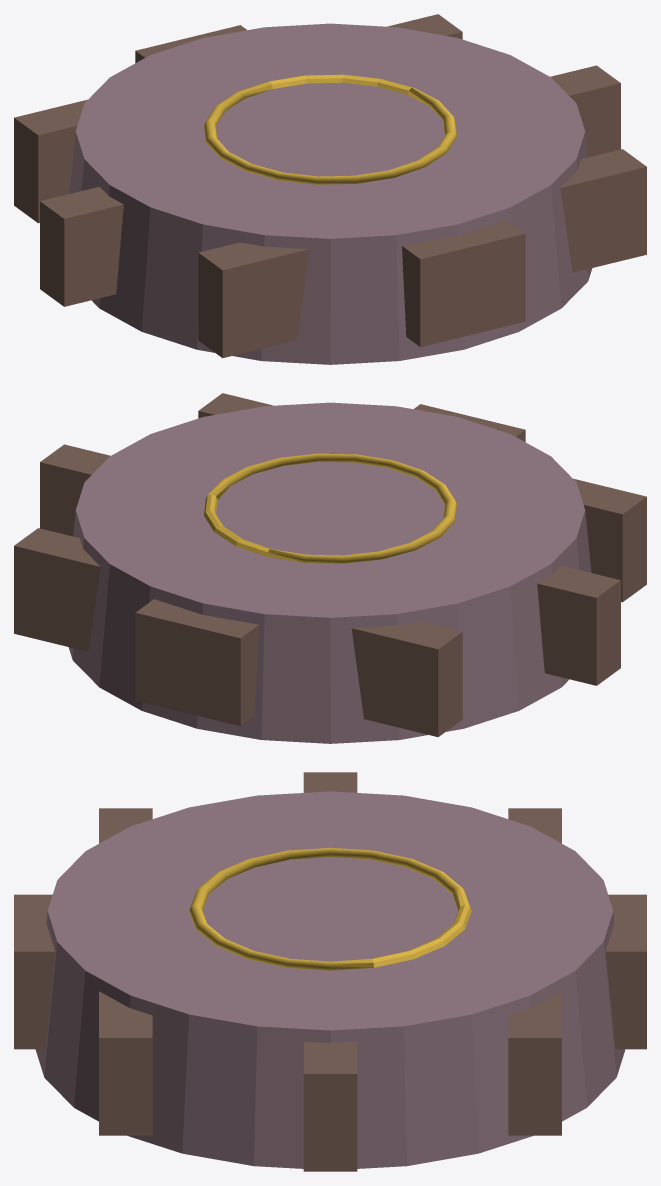
Rendered from bo_doan_dai_sen.obj.
3 views of the same model, one above another, from view 1: azimuth 30°, elevation 25°; view 2: azimuth 150°, elevation 25°; view 3: azimuth 270°, elevation 25° (orthographic). The views are drawn at different scales.
Size of the model in its own units: 0.53 by 0.115 by 0.47.
